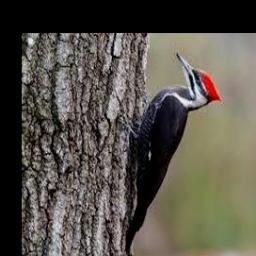Woodpecker: (121, 51, 222, 256)
